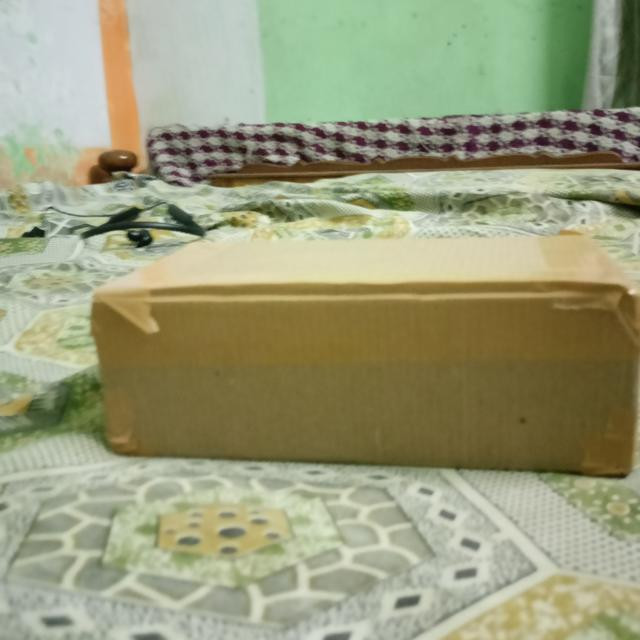box: (94, 295, 640, 476)
